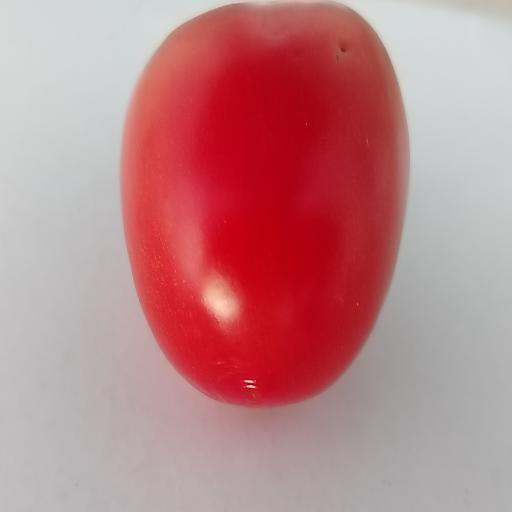ripe: (121, 3, 408, 405)
